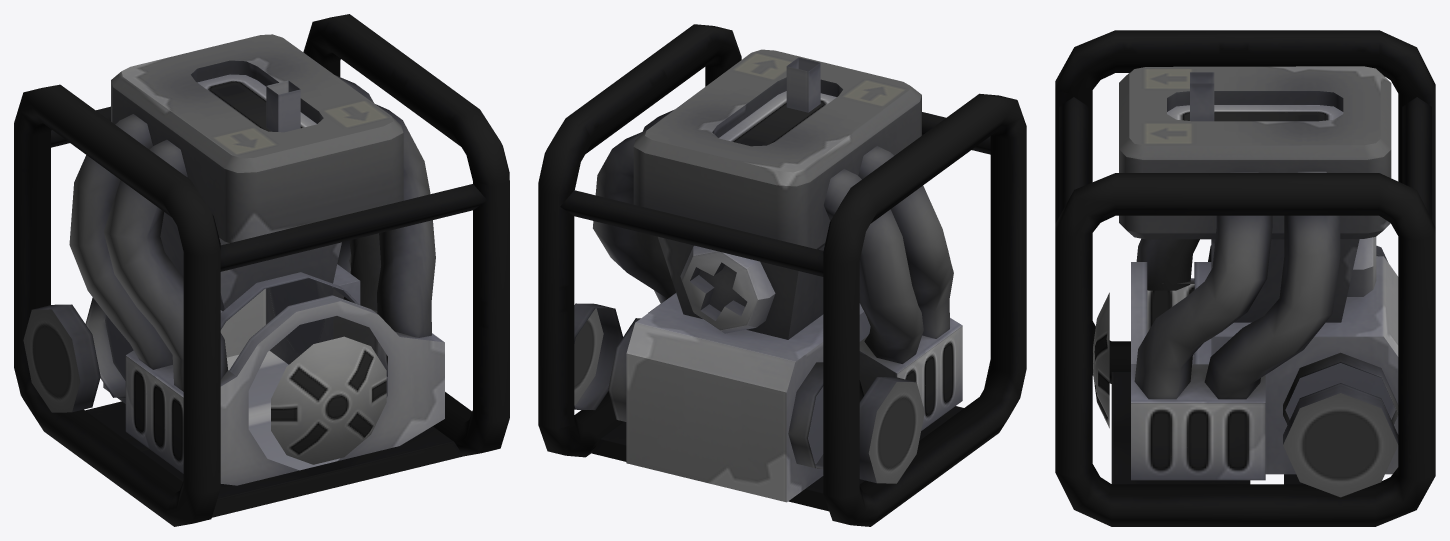
The model's file is obj_interactive_gasengine_on.fbx.
The picture shows the model from 3 angles, left to right: view 1: azimuth 30°, elevation 25°; view 2: azimuth 150°, elevation 25°; view 3: azimuth 270°, elevation 25°; orthographic projection. The views are drawn at different scales.
Parts seen in each view (by area): view 1: obj_interactive_gasengine_on_lod0; view 2: obj_interactive_gasengine_on_lod0; view 3: obj_interactive_gasengine_on_lod0.
Part boxes in pixels (x1,y1,x2,y2): obj_interactive_gasengine_on_lod0: (14,14,509,526); obj_interactive_gasengine_on_lod0: (538,24,1026,526); obj_interactive_gasengine_on_lod0: (1055,30,1435,526).
Size of the model in its own units: 2 by 2.35 by 2.
1 material, 1 textured.
